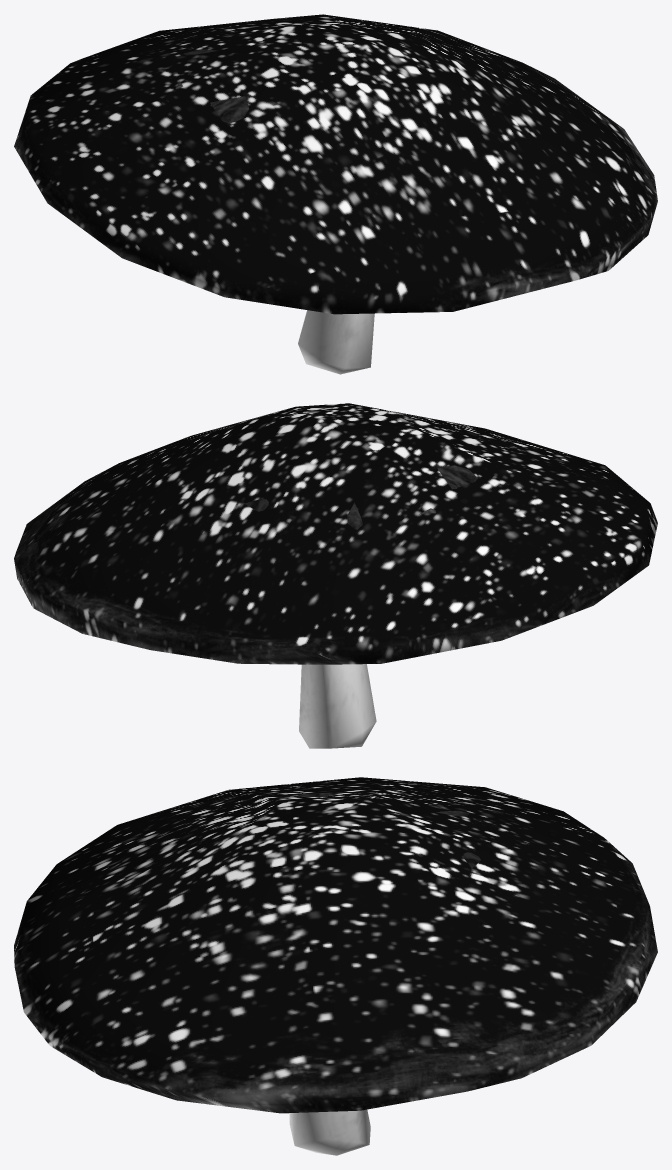
Rendered from FlatMushroom.fbx.
3 renders of one model, top to bottom at view 1: azimuth 30°, elevation 25°; view 2: azimuth 150°, elevation 25°; view 3: azimuth 270°, elevation 25°, orthographic. The views are drawn at different scales.
Visible parts, largest first — view 1: Cube.007; view 2: Cube.007; view 3: Cube.007.
Part boxes in pixels (x1=…): Cube.007: x1=14, y1=14, x2=657, y2=374; Cube.007: x1=14, y1=403, x2=657, y2=748; Cube.007: x1=14, y1=777, x2=657, y2=1155.
Bounding box in the file's own units: 1018 × 567 × 1020.
